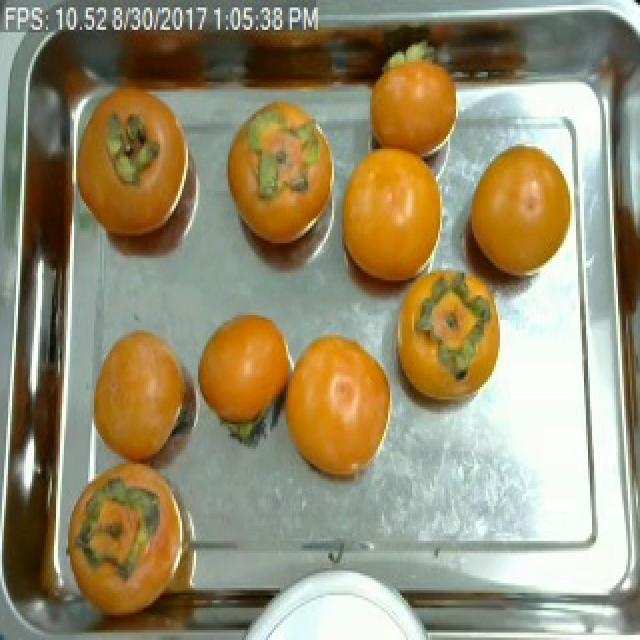Fruit: (68, 454, 226, 633), (72, 74, 210, 268), (266, 320, 402, 496), (214, 92, 338, 263), (330, 134, 446, 305), (456, 129, 574, 290), (86, 320, 202, 474), (356, 37, 468, 184), (188, 300, 300, 444)
